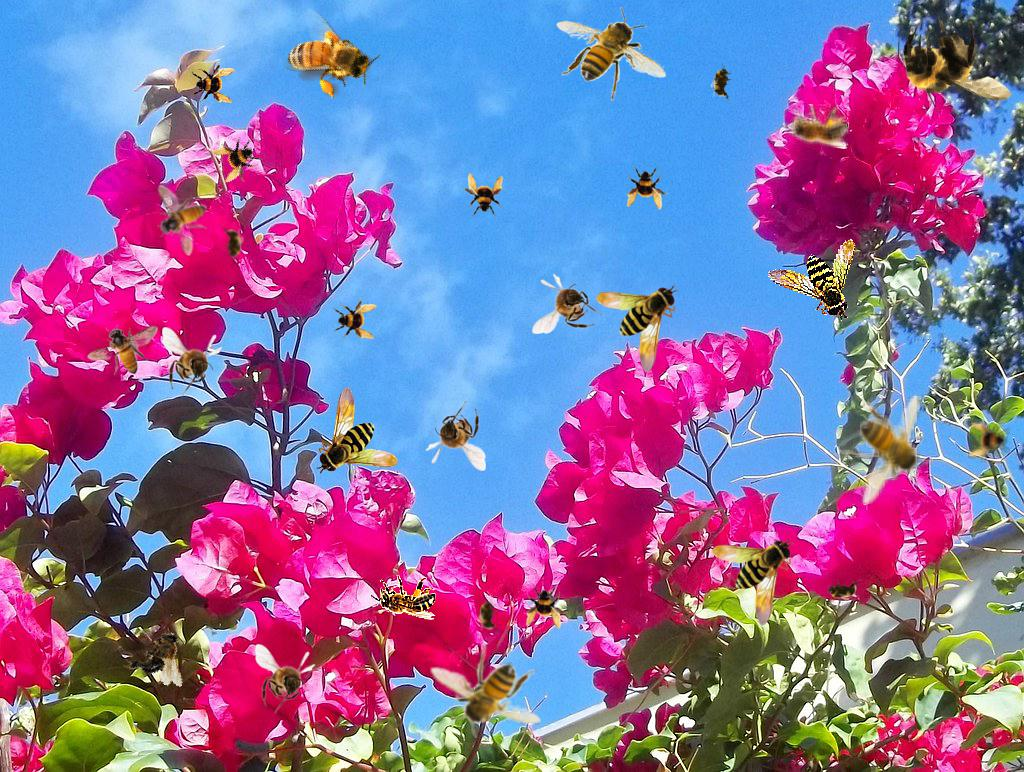Bee: (270, 2, 386, 113), (898, 13, 1013, 120), (430, 644, 541, 738), (556, 7, 667, 101), (839, 395, 933, 506), (760, 223, 864, 323), (316, 386, 398, 474), (596, 285, 678, 373), (712, 538, 794, 626), (121, 619, 198, 691), (531, 272, 604, 336), (425, 401, 486, 471), (162, 327, 223, 397), (255, 644, 316, 714), (208, 130, 268, 190), (157, 185, 207, 256), (87, 325, 158, 375), (783, 104, 849, 149), (370, 575, 436, 620), (966, 419, 1012, 465), (524, 585, 568, 629), (461, 173, 505, 217), (191, 61, 235, 105), (333, 297, 377, 341), (625, 166, 669, 210), (707, 60, 737, 104), (477, 595, 499, 635), (222, 224, 244, 264), (822, 579, 862, 601)
